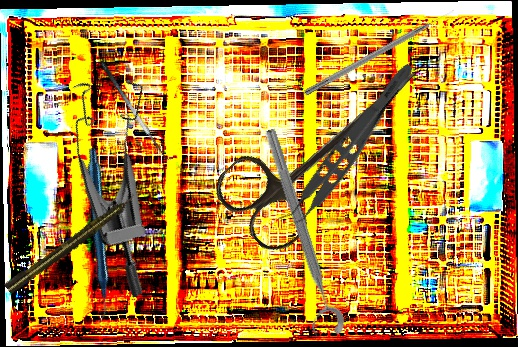Fixation Ring: (247, 126, 348, 342)
Handpiece: (13, 145, 179, 325), (3, 190, 140, 296)
Hook Surgical: (302, 7, 457, 98)
Iris Scissors: (207, 32, 445, 261)
Spatula Surgical: (98, 54, 176, 166)
Speculum: (32, 58, 227, 300)
Tissue Forceps: (274, 51, 419, 237)
